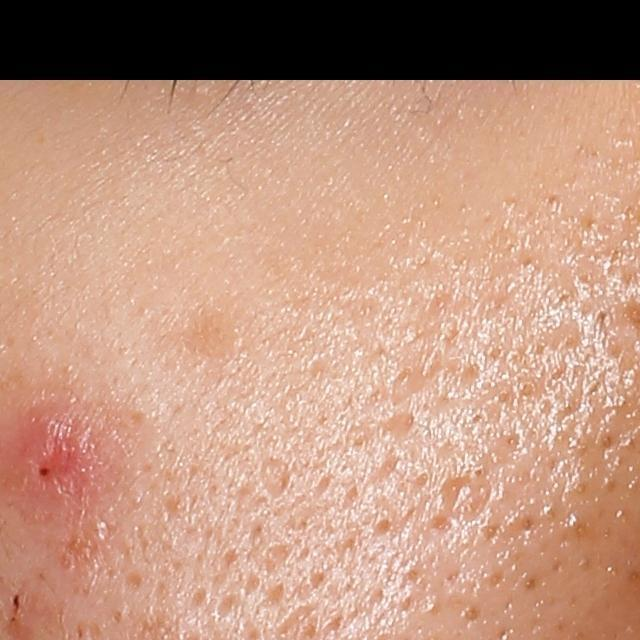atrophic_scar: (259, 453, 296, 501), (434, 474, 471, 518), (367, 412, 416, 441)
papule: (1, 395, 107, 513)
